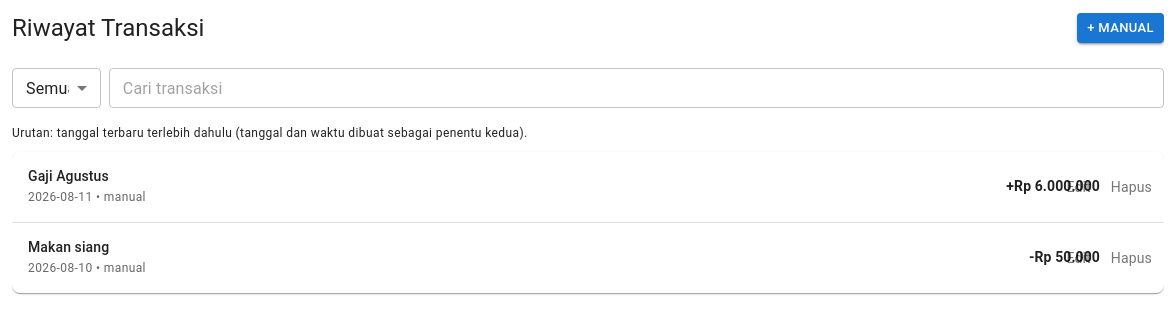
TransactionList › filters by income or expense and searches notes
Expected: the heading "Gaji Agustus" is shown, 28,168 -> 109,184
Expected: the heading "Makan siang" is shown, 28,239 -> 109,255
Select "Masuk" in the dropdown named "Filter jenis" at (56, 88), box 12,68 -> 101,108
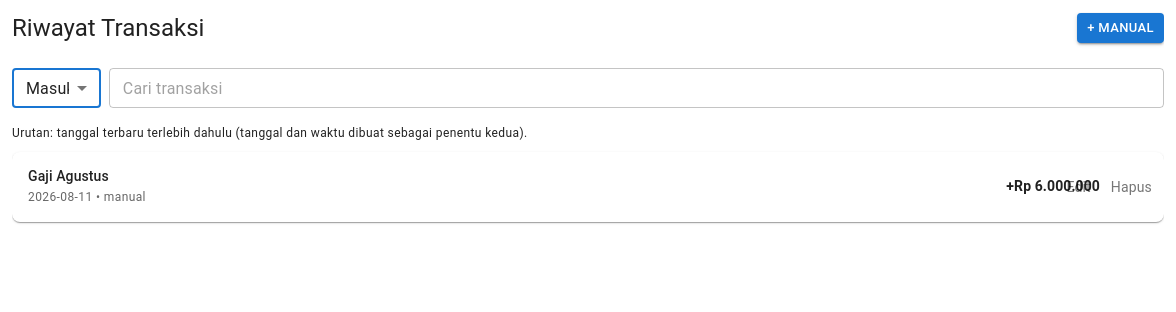
Expected: the heading "Gaji Agustus" is shown, 28,168 -> 109,184
Expected: the heading "Makan siang" is gone
Select "Semua" in the dropdown named "Filter jenis" at (56, 88), box 12,68 -> 101,108
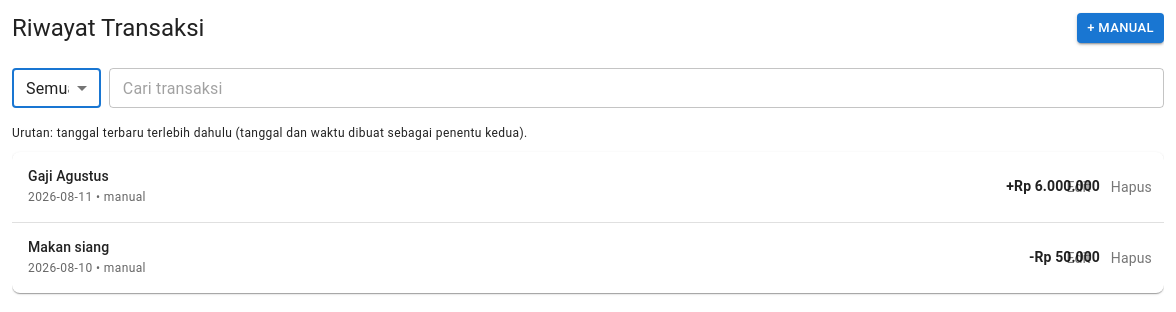
Type "siang" into the field with placeholder "Cari transaksi" at (636, 88), box 109,68 -> 1164,108
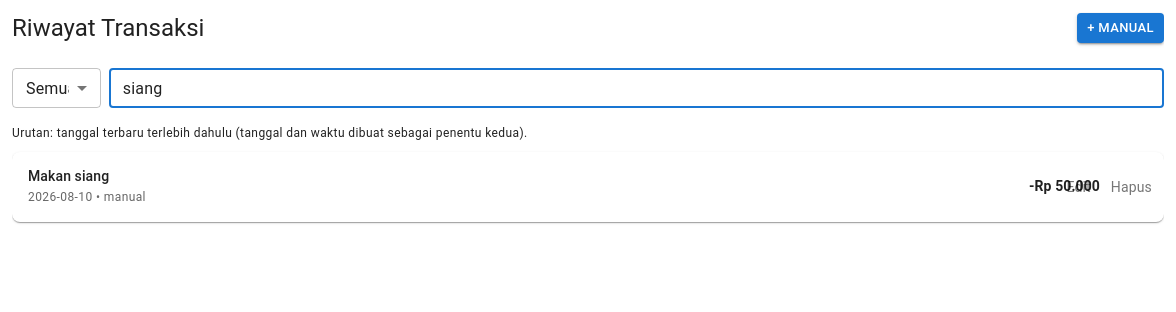
Expected: the heading "Makan siang" is shown, 28,168 -> 109,184
Expected: the heading "Gaji Agustus" is gone
